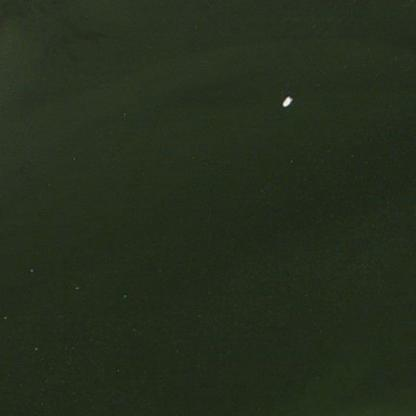ship: (275, 90, 296, 114)
